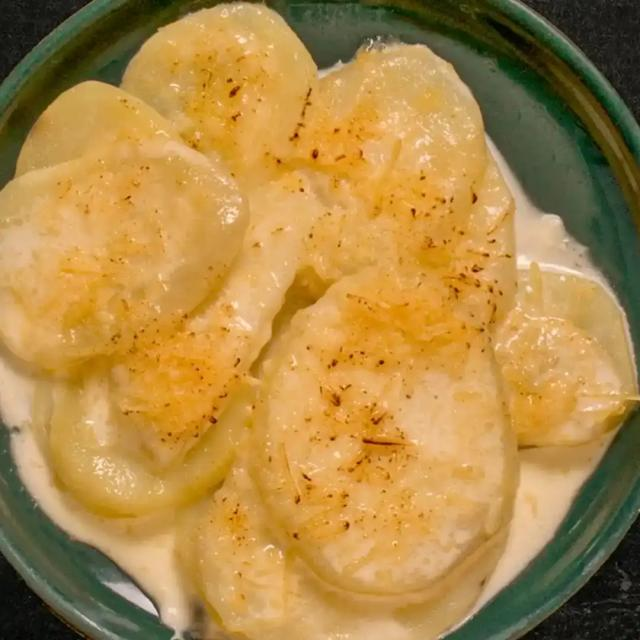platano: (4, 7, 632, 633)
